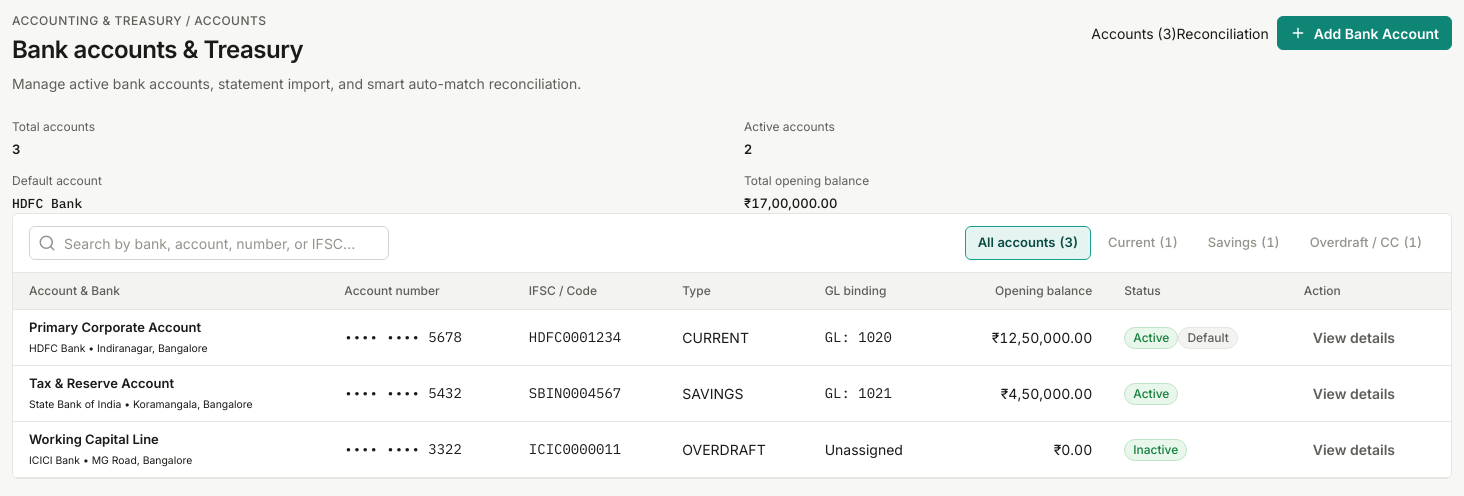
Test case: BankingPage › filters bank accounts by account type tabs
expect the text "Primary Corporate Account" is shown: met, box [29, 319, 201, 335]
What coordinates should you click on to do the following:
click the tab "Savings (1)"
I would click on:
 (1244, 243)
Its box is [1195, 226, 1293, 260].
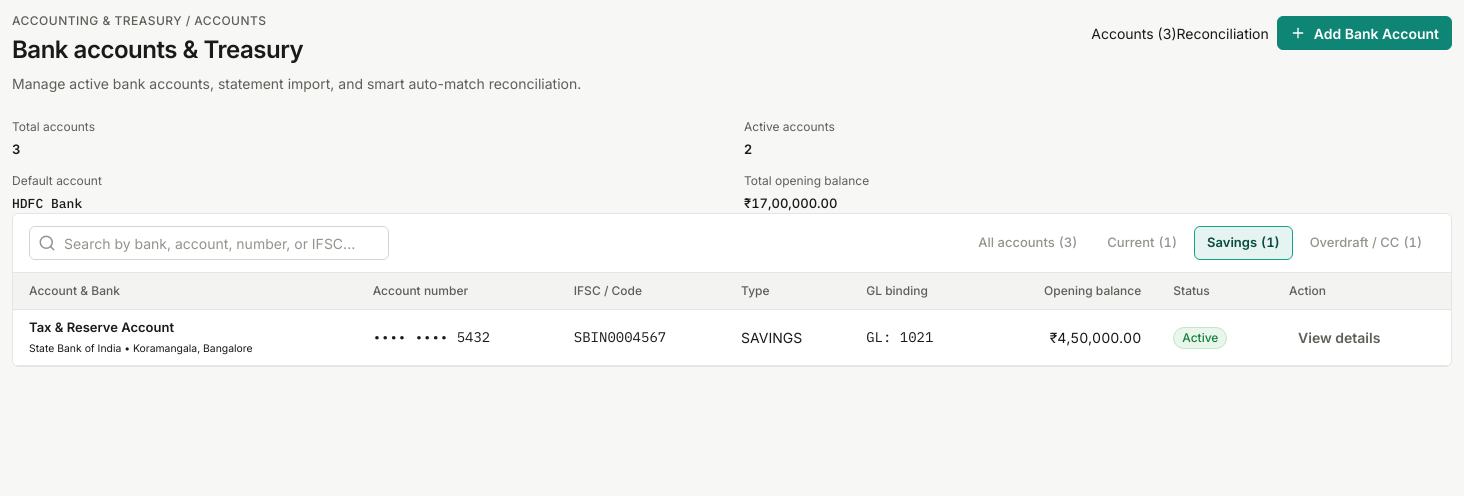
expect the text "Tax & Reserve Account" is shown: met, box [29, 319, 174, 335]
expect the text "Primary Corporate Account" is gone: met
expect the text "Working Capital Line" is gone: met
